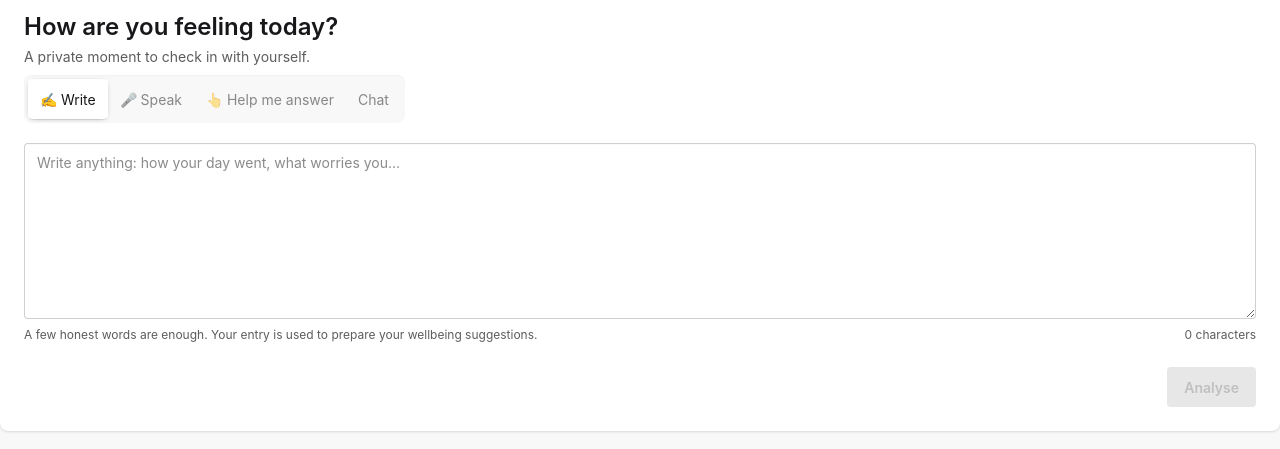
Journal : onglet texte › Analyse est désactivé tant que le texte est vide
The width and height of the screenshot is (1280, 449).
Check: the button "Analyse" is disabled, box [1167, 367, 1256, 407]
Type "I feel stressed" into the text box with placeholder "Write anything: how your day went, what worries you…". click: (640, 231)
box: [24, 143, 1256, 319]
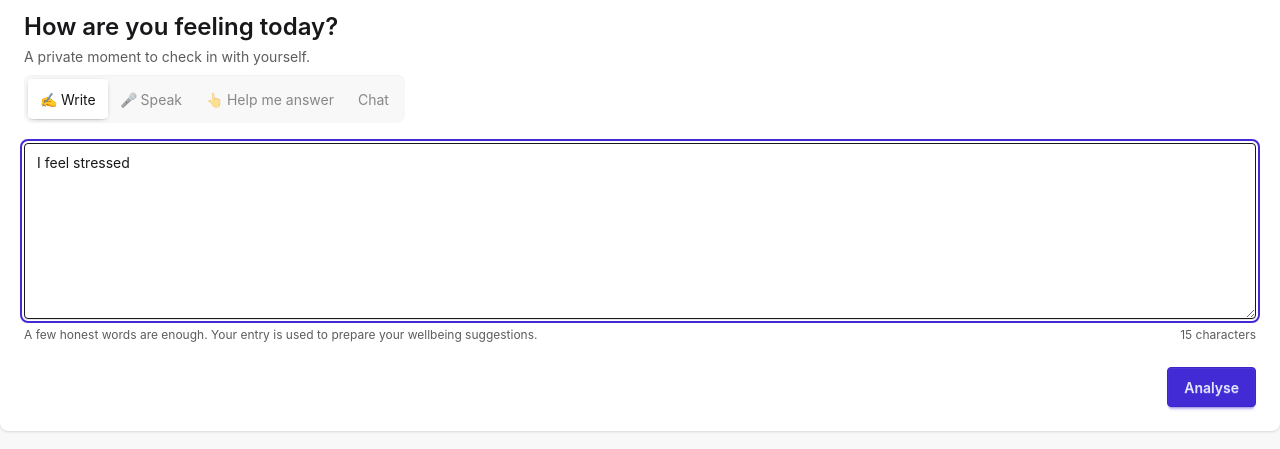
Check: the button "Analyse" is enabled, box [1167, 367, 1256, 407]
